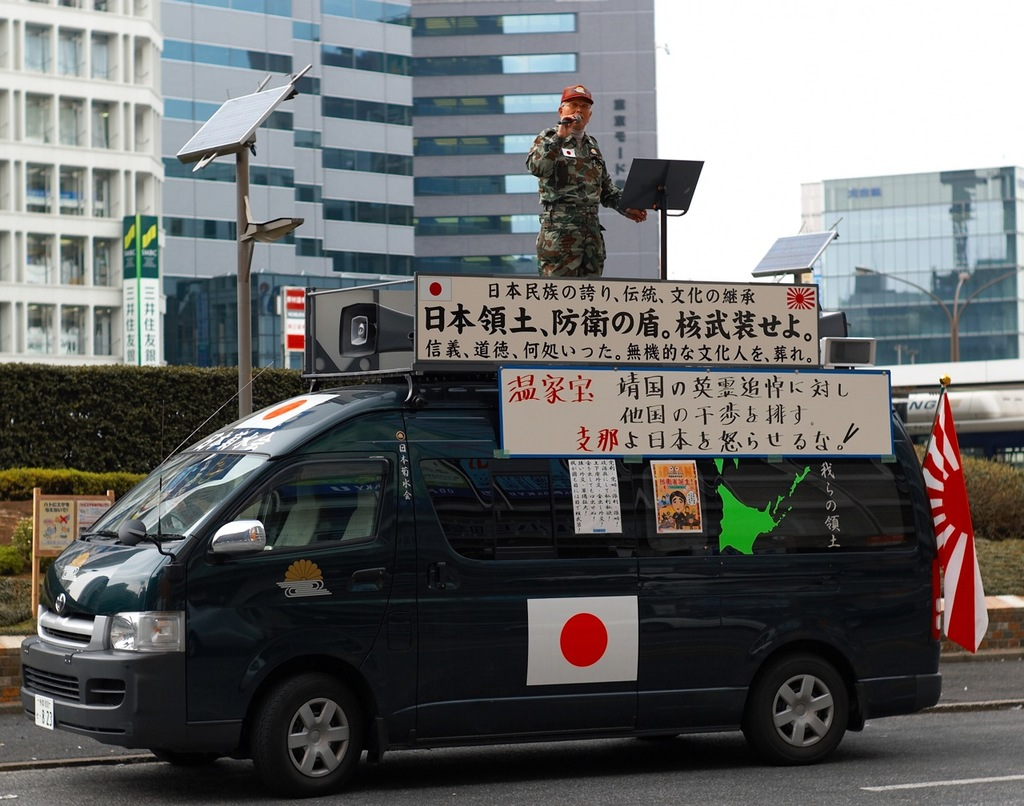person: (523, 82, 650, 278)
